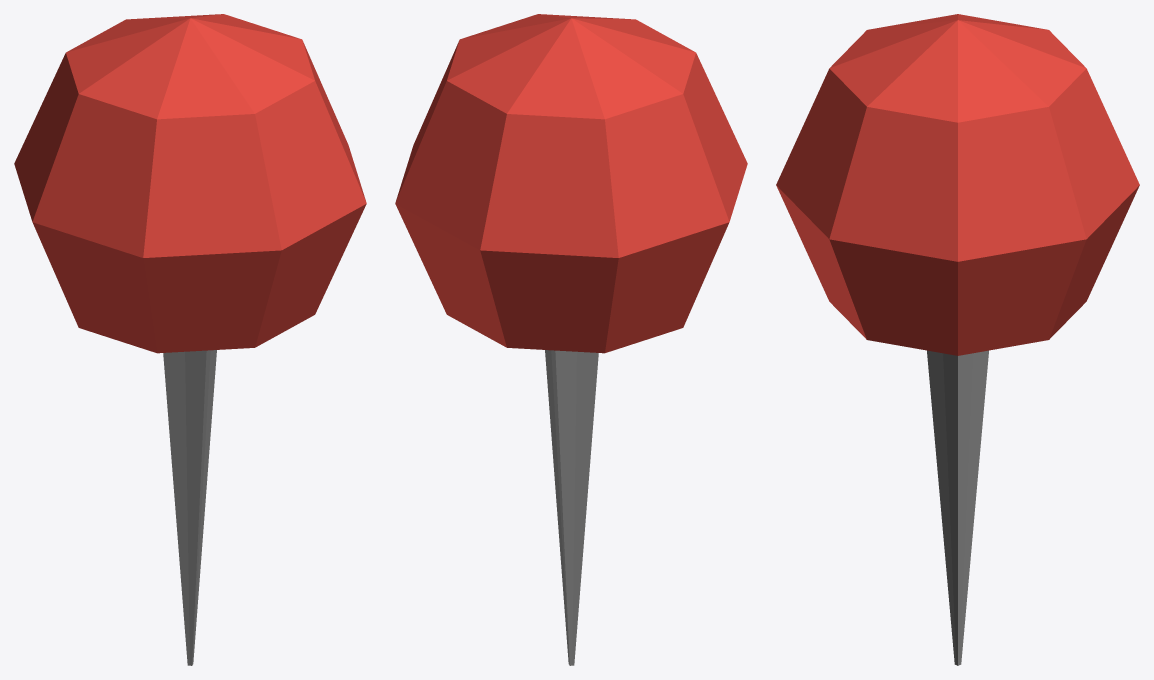
The model's file is pin.glb.
The picture shows the model from 3 angles, left to right: view 1: azimuth 30°, elevation 25°; view 2: azimuth 150°, elevation 25°; view 3: azimuth 270°, elevation 25°; orthographic projection.
Visible parts, largest first — view 1: Pin; view 2: Pin; view 3: Pin.
Boxes of the visible parts, box(x1,y1,x2,y2) form: Pin: box(14, 14, 366, 665); Pin: box(395, 14, 747, 665); Pin: box(776, 14, 1139, 665).
Size of the model in its own units: 1 by 1.95 by 1.
